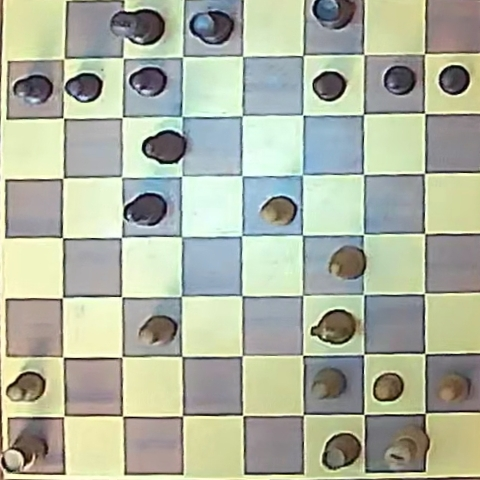black-bishop: (142, 130, 185, 165), (124, 193, 167, 226)
black-king: (111, 8, 164, 46)
black-pawn: (13, 74, 53, 105), (65, 72, 103, 102), (129, 67, 167, 96), (383, 65, 416, 95), (438, 65, 470, 95), (313, 71, 346, 100)
black-rook: (189, 9, 234, 45), (311, 0, 355, 30)
white-bishop: (328, 246, 366, 280)
white-king: (384, 425, 428, 468)
white-knight: (311, 310, 356, 345)
white-pawn: (5, 371, 46, 403), (138, 315, 176, 347), (260, 196, 296, 226), (312, 368, 345, 400), (437, 374, 468, 404), (374, 373, 404, 402)
white-rook: (1, 433, 46, 473), (323, 434, 361, 470)
